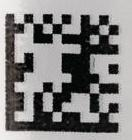datamatrix: (6, 15, 120, 134)
